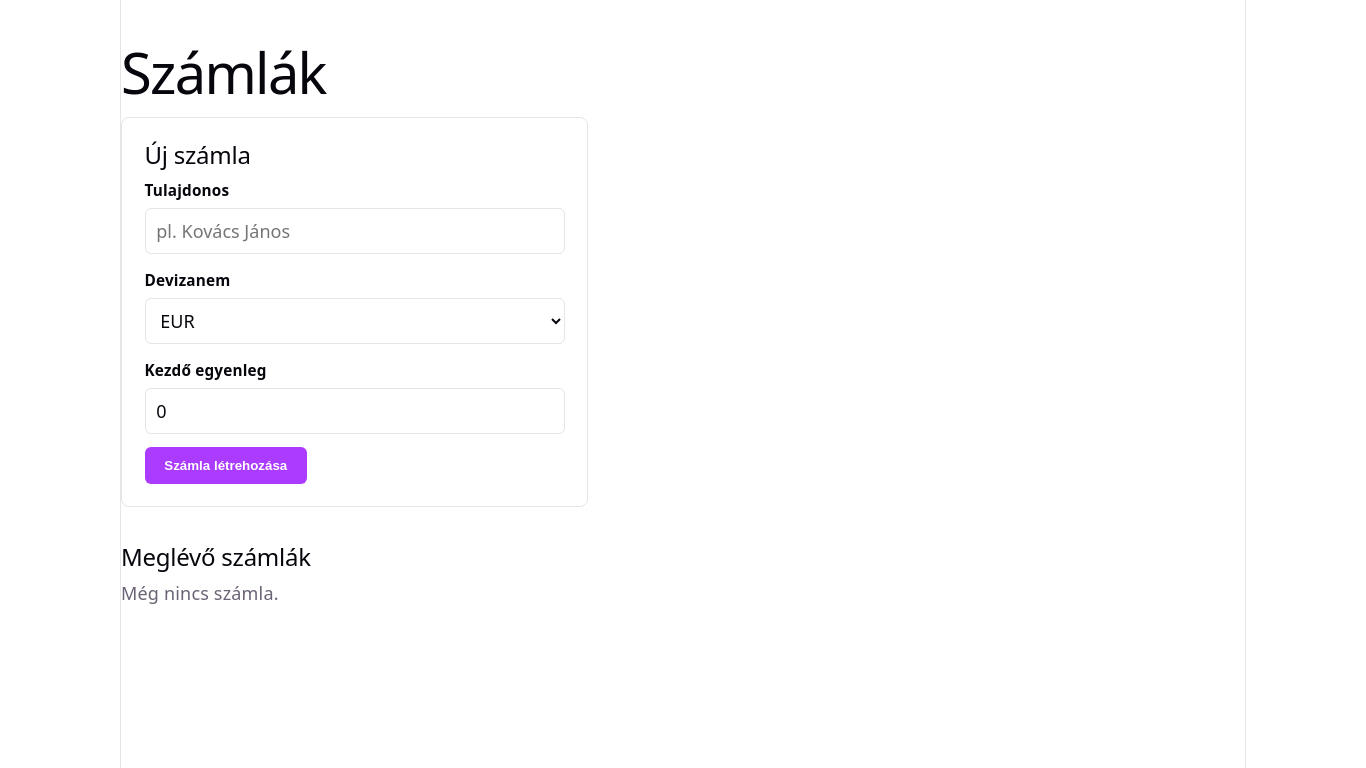
Test case: AccountsPage › rejects submission when the owner name is blank
The image size is (1366, 768).
expect the text "Még nincs számla." is shown: met, box [121,581,279,605]
Click the button "Számla létrehozása".
click(226, 466)  # box [144,447,307,484]
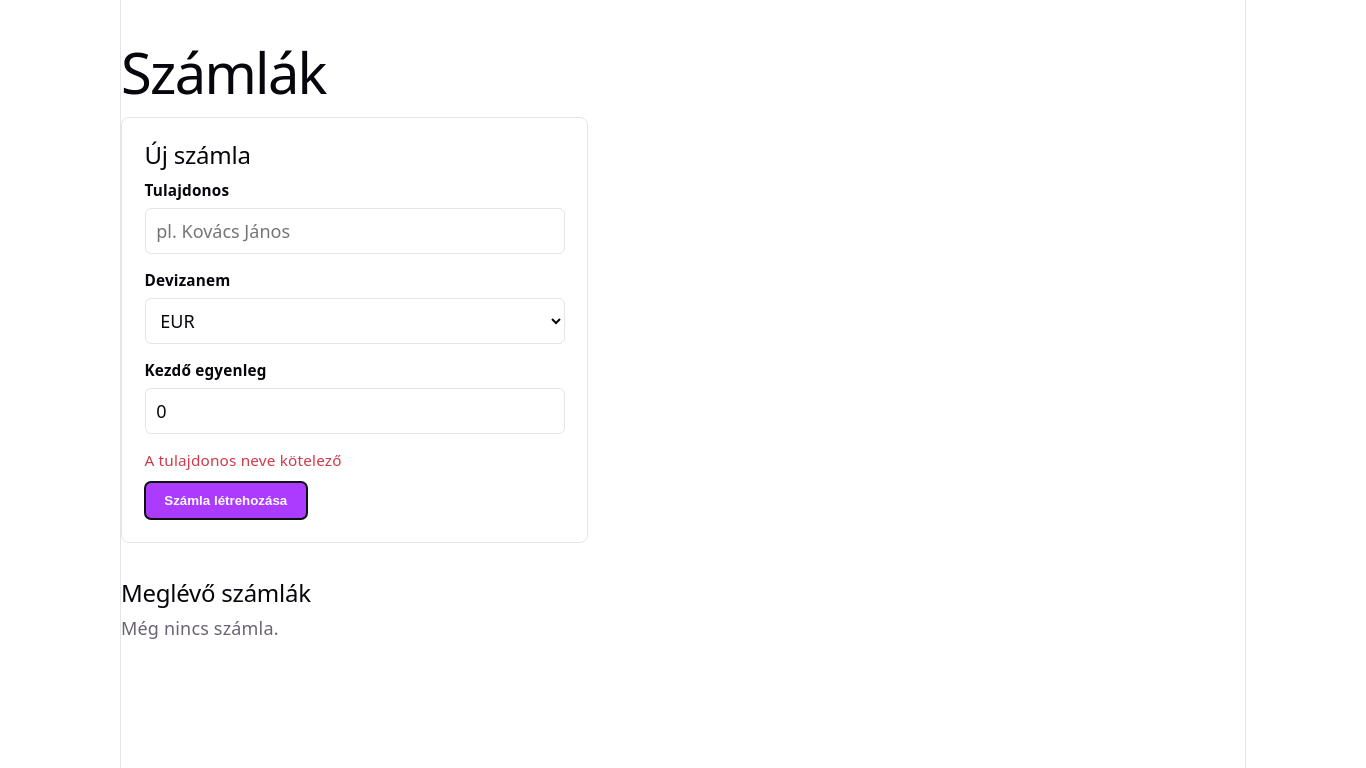
expect the text "A tulajdonos neve kötelező" is shown: met, box [144,450,342,470]
